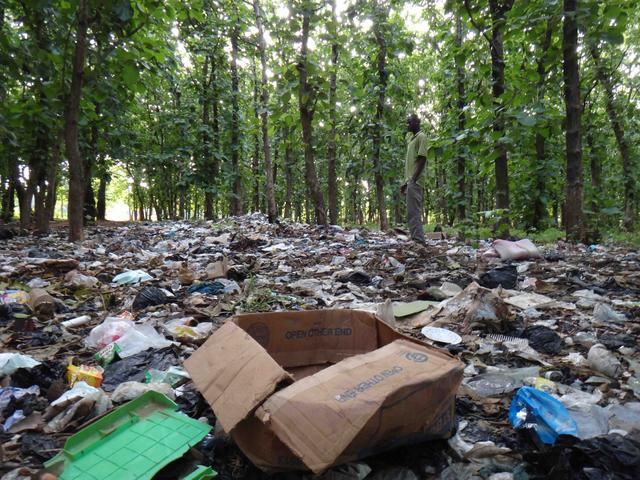garbage: (194, 238, 600, 333), (20, 239, 180, 398), (481, 326, 614, 449)
